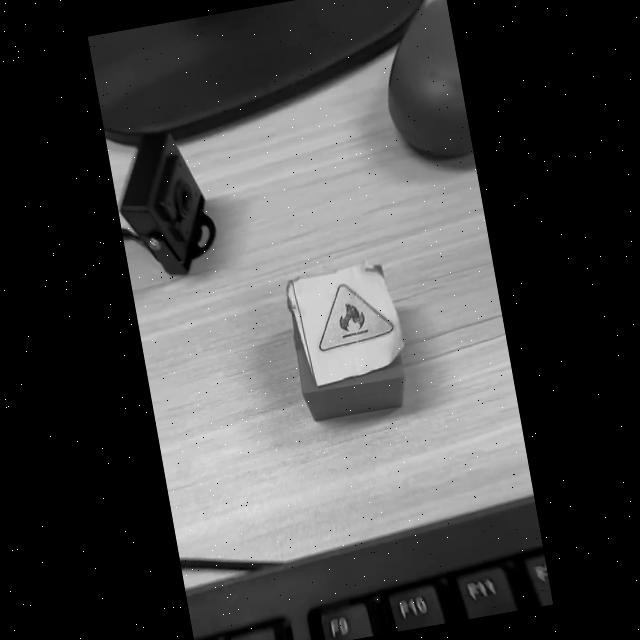Fire: (319, 284, 392, 350)
